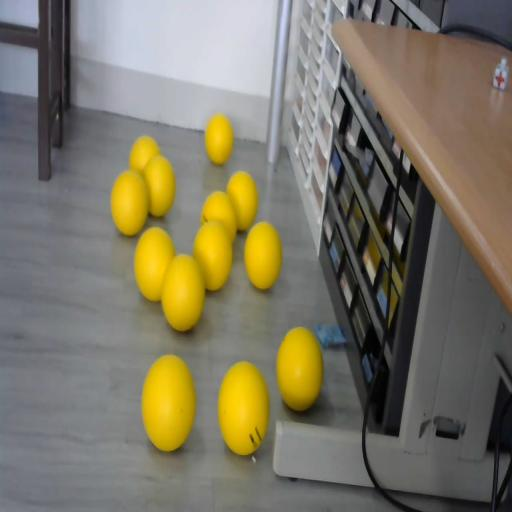FUEL: (141, 352, 196, 451), (216, 359, 270, 455), (276, 326, 323, 410), (160, 254, 205, 332), (192, 219, 234, 291), (244, 220, 282, 289), (110, 170, 148, 236), (144, 154, 176, 218), (226, 170, 259, 230), (205, 114, 233, 165)
